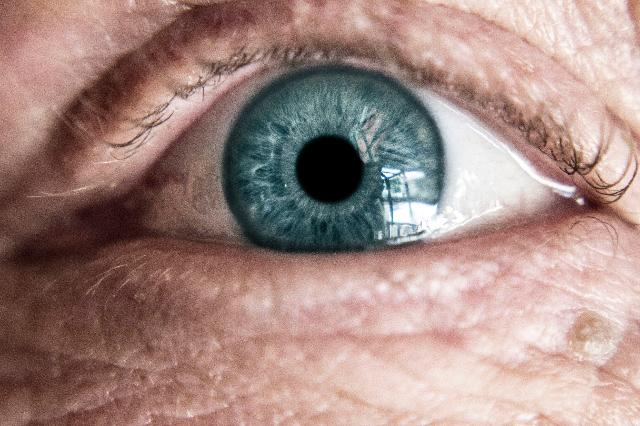eye: (227, 68, 448, 256)
